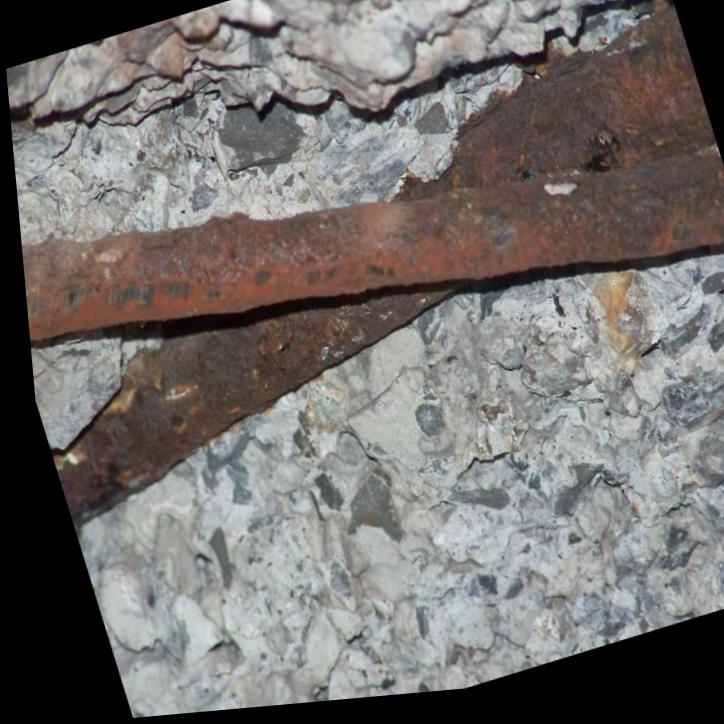damage: (5, 0, 724, 719)
